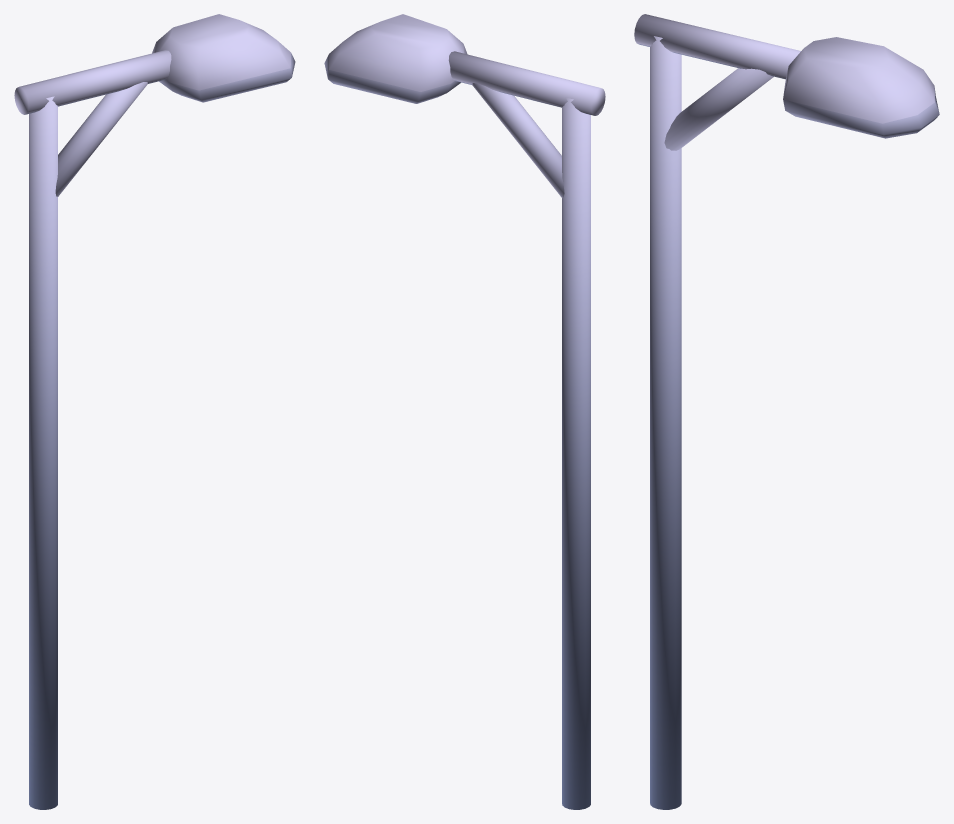
Rendered from Lampadaire.fbx.
The picture shows the model from 3 angles, left to right: view 1: azimuth 30°, elevation 25°; view 2: azimuth 150°, elevation 25°; view 3: azimuth 330°, elevation 25°; orthographic projection. The views are drawn at different scales.
Visible parts, largest first — view 1: Cube.006; view 2: Cube.006; view 3: Cube.006.
Part boxes in pixels (bbox=[...]): Cube.006: bbox=[14, 14, 295, 809]; Cube.006: bbox=[324, 14, 605, 809]; Cube.006: bbox=[634, 14, 939, 809].
Size of the model in its own units: 559 by 1475 by 175.
